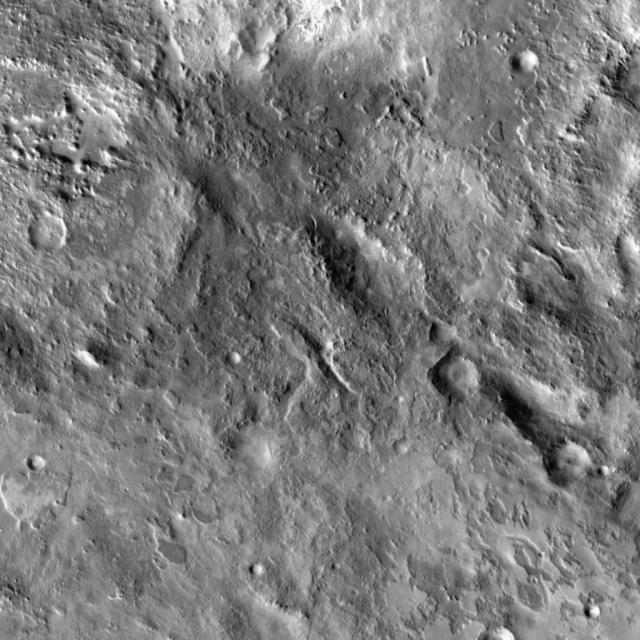crater: (0, 0, 640, 446), (0, 34, 203, 362), (432, 354, 484, 401), (546, 439, 594, 483), (30, 214, 70, 250), (242, 20, 278, 51), (342, 424, 372, 452), (514, 48, 542, 73), (618, 233, 640, 254), (586, 599, 604, 615), (227, 348, 244, 364), (30, 454, 48, 469), (252, 562, 264, 574), (602, 462, 613, 472), (335, 562, 343, 570), (590, 594, 598, 600)
